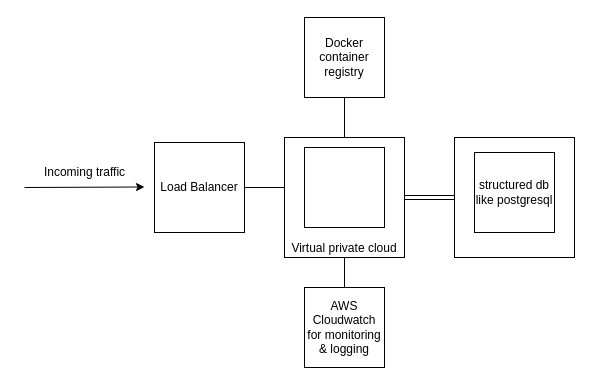
Image size: 592x385. Some labels were removed from this diagram. Each missing label, with the box of its shape:
Amazon RDS: (454, 136, 574, 258)
EC2 docker cluster with autoscale: (304, 146, 384, 228)
